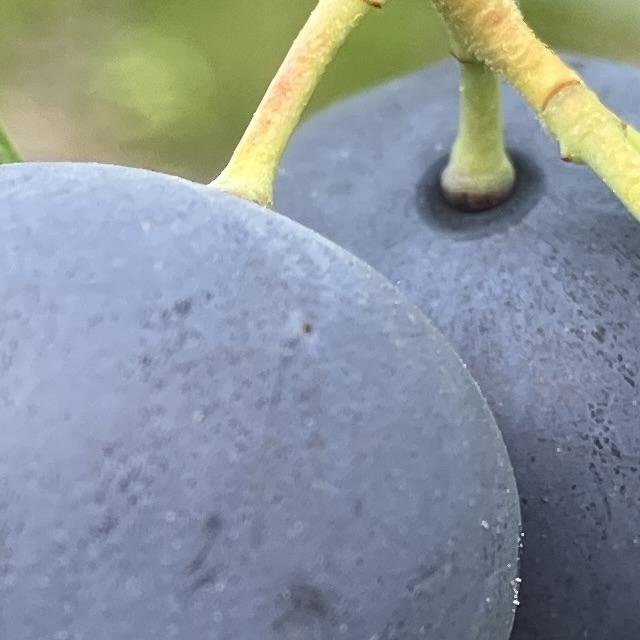Blueberries: (0, 153, 526, 640)
